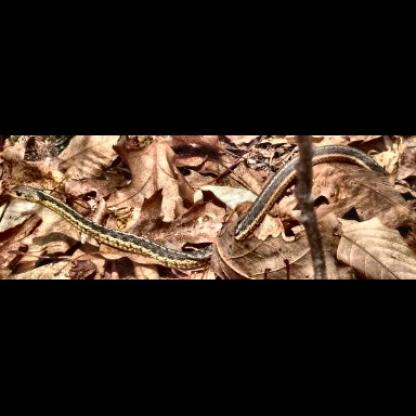Snake: (6, 179, 196, 272)
